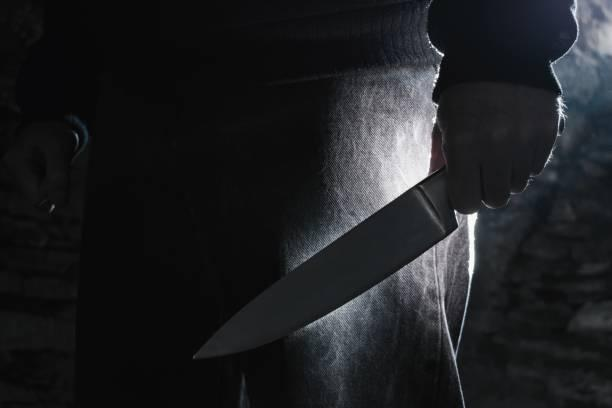Knife: (7, 0, 575, 408), (193, 171, 461, 361), (436, 82, 566, 208)
